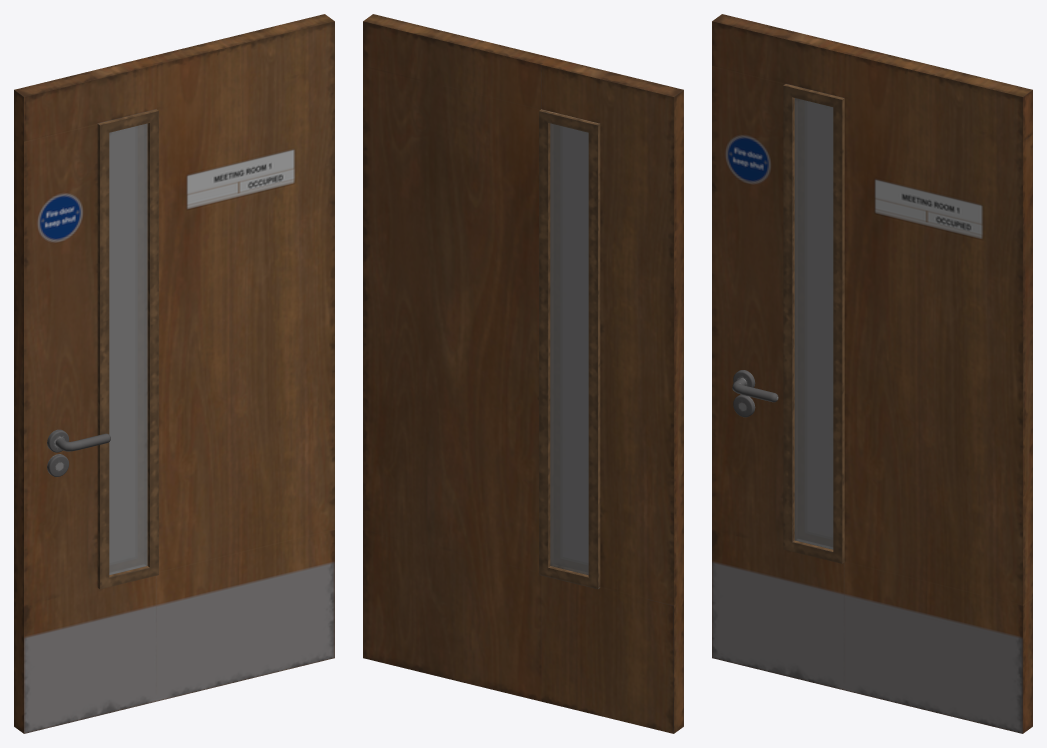
The model's file is office_door_a.glb.
The picture shows the model from 3 angles, left to right: view 1: azimuth 30°, elevation 25°; view 2: azimuth 150°, elevation 25°; view 3: azimuth 330°, elevation 25°; orthographic projection.
Parts seen in each view (by area): view 1: SM_meeting_room_door_2, SM_door_handle.003_1; view 2: SM_meeting_room_door_2; view 3: SM_meeting_room_door_2, SM_door_handle.003_1.
Part boxes in pixels (bbox=[...]): SM_meeting_room_door_2: bbox=[14, 14, 334, 733]; SM_door_handle.003_1: bbox=[47, 429, 110, 452]; SM_meeting_room_door_2: bbox=[363, 14, 683, 733]; SM_meeting_room_door_2: bbox=[712, 14, 1032, 733]; SM_door_handle.003_1: bbox=[732, 370, 778, 402].
Bounding box in the file's own units: 1.2 × 2.35 × 0.1677.
Materials: 1 (1 with a texture image).
